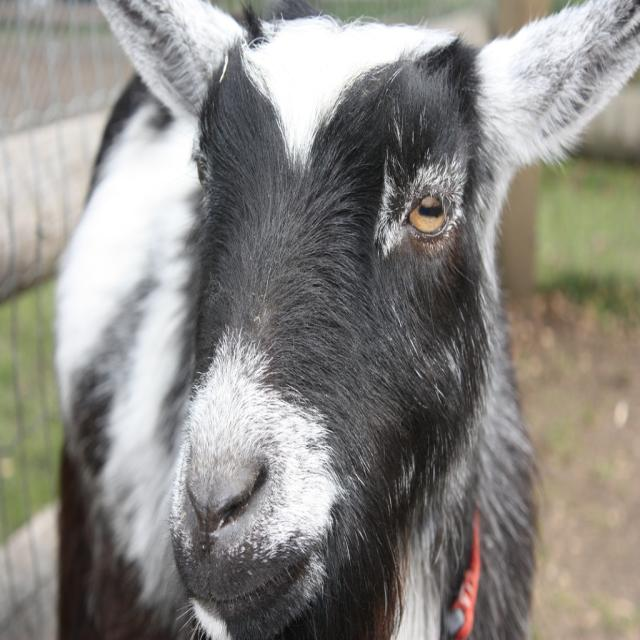not_pig: (52, 0, 638, 638)
